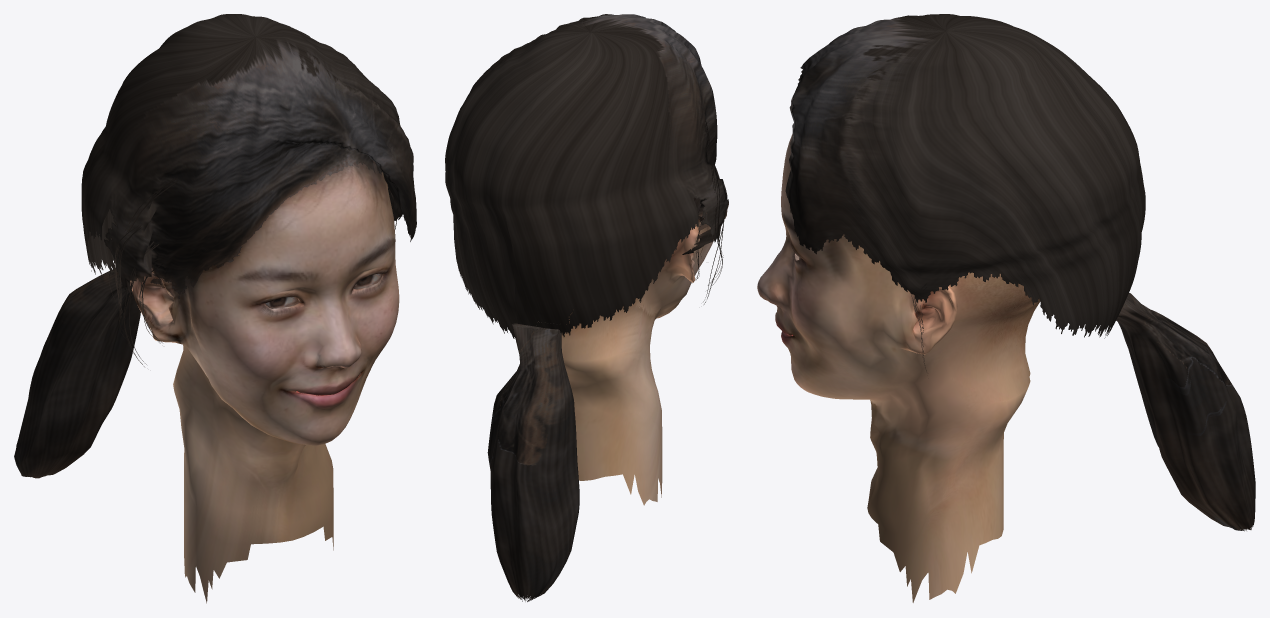
File: visitor-female.glb
The picture shows the model from 3 angles, left to right: view 1: azimuth 30°, elevation 25°; view 2: azimuth 150°, elevation 25°; view 3: azimuth 270°, elevation 25°; orthographic projection. The views are drawn at different scales.
Visible parts, largest first — view 1: low-ponytail, skin, eyes; view 2: low-ponytail, skin; view 3: low-ponytail, skin.
Boxes of the visible parts, left/top/right/bottom form: low-ponytail: left=14, top=14, right=416, bottom=478; skin: left=130, top=160, right=399, bottom=603; eyes: left=265, top=273, right=382, bottom=308; low-ponytail: left=445, top=14, right=728, bottom=601; skin: left=561, top=197, right=713, bottom=505; low-ponytail: left=785, top=14, right=1255, bottom=531; skin: left=757, top=134, right=1039, bottom=602.
Size of the model in its own units: 0.2 by 0.3697 by 0.3075.
4 materials, 4 textured.
